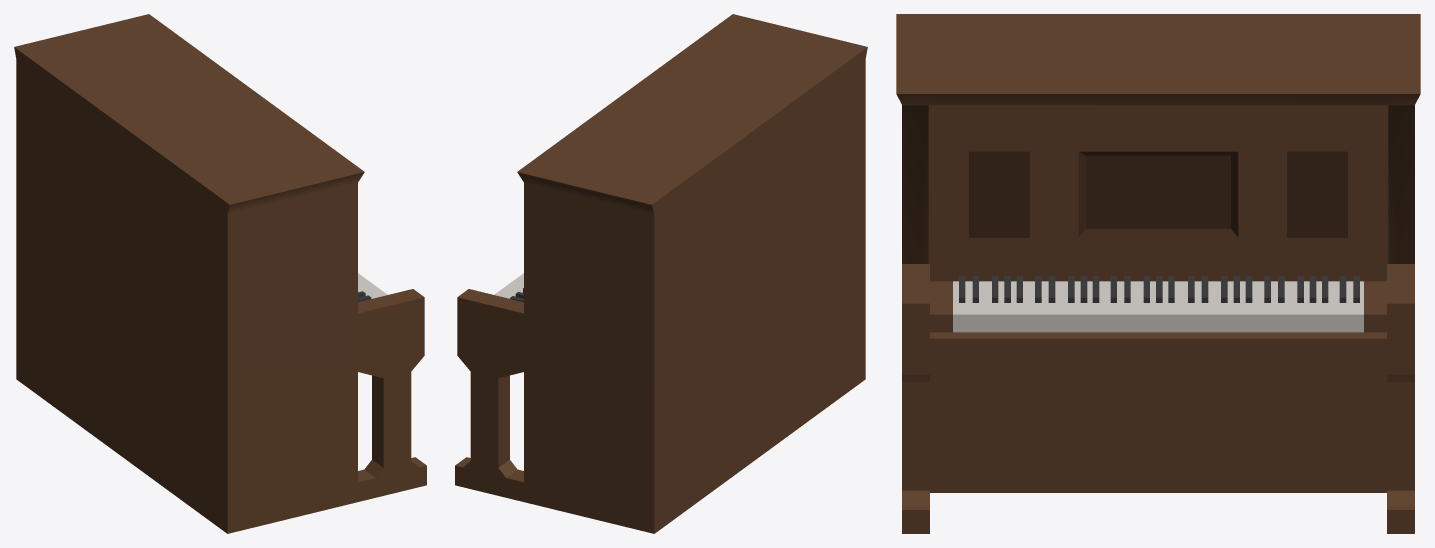
Rendered from piano.fbx.
3 renders of one model, left to right at view 1: azimuth 30°, elevation 25°; view 2: azimuth 150°, elevation 25°; view 3: azimuth 270°, elevation 25°, orthographic. The views are drawn at different scales.
Visible parts, largest first — view 1: piano; view 2: piano; view 3: piano.
Boxes of the visible parts, left/top/right/bottom form: piano: left=14, top=14, right=426, bottom=533; piano: left=455, top=14, right=867, bottom=533; piano: left=896, top=14, right=1420, bottom=533.
Size of the model in its own units: 181 by 287 by 340.
